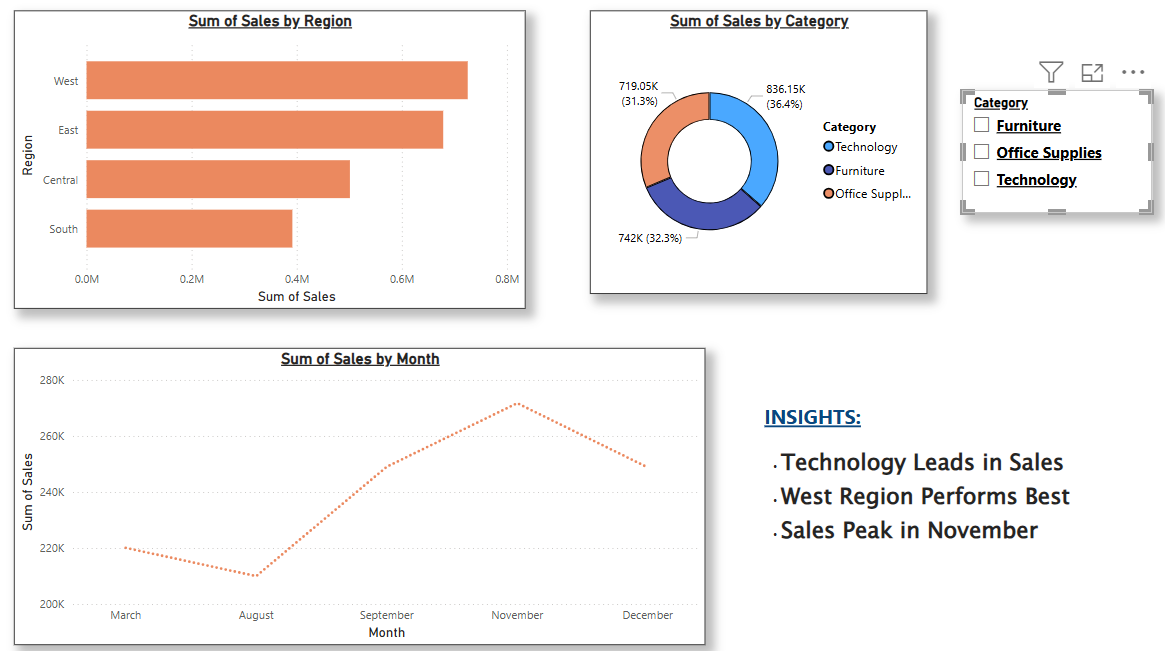

Layout of this report page (visuals, bound fields, positions):
{"tool":"powerbi","page":{"name":"Page 1","canvas":[1280,720],"ordinal":0},"visuals":[{"type":"lineChart","fields":{"Category":["Sample - Superstore.Order Date.Variation.Date Hierarchy.Month"],"Y":["Sum(Sample - Superstore.Sales)"]},"box":[25.8,380.6,743.5,319.4],"z":0},{"type":"clusteredBarChart","fields":{"Y":["Sum(Sample - Superstore.Sales)"],"Category":["Sample - Superstore.Region"]},"box":[25.8,17.7,550,321],"z":1000},{"type":"donutChart","fields":{"Category":["Sample - Superstore.Category"],"Y":["Sum(Sample - Superstore.Sales)"]},"box":[645.2,17.7,362.9,304.8],"z":2000},{"type":"slicer","fields":{"Values":["Sample - Superstore.Category"]},"box":[1045.2,103.2,204.8,132.3],"z":2001},{"type":"textbox","box":[827.4,433.9,408.1,172.6],"z":2002}]}

Visuals, with their boxes in screenshot pixels (x1, y1, x2, y2), scaled from the page's 1280x720 canvas onto the 1165x651 screenshot:
lineChart - Sample - Superstore.Order Date.Variation.Date Hierarchy.Month x Sum(Sample - Superstore.Sales): <box>23,344,700,633</box>
clusteredBarChart - Sum(Sample - Superstore.Sales) x Sample - Superstore.Region: <box>23,16,524,306</box>
donutChart - Sample - Superstore.Category x Sum(Sample - Superstore.Sales): <box>587,16,918,292</box>
slicer - Sample - Superstore.Category: <box>951,93,1138,213</box>
textbox: <box>753,392,1124,548</box>
